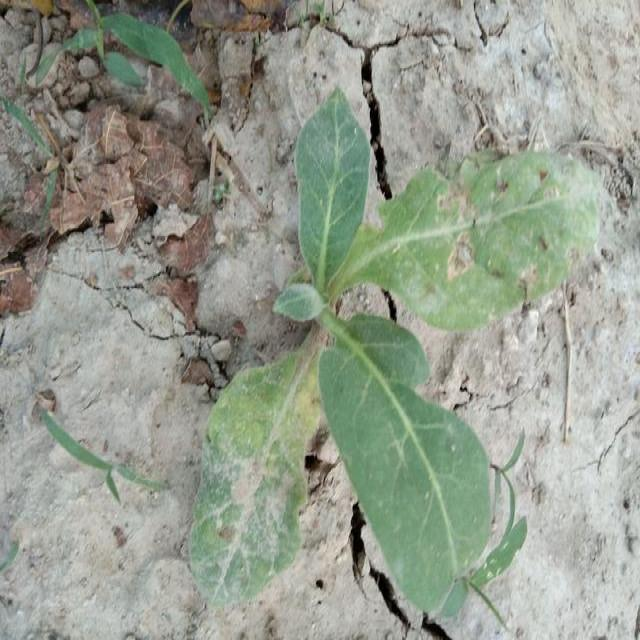crop: (192, 91, 592, 617)
